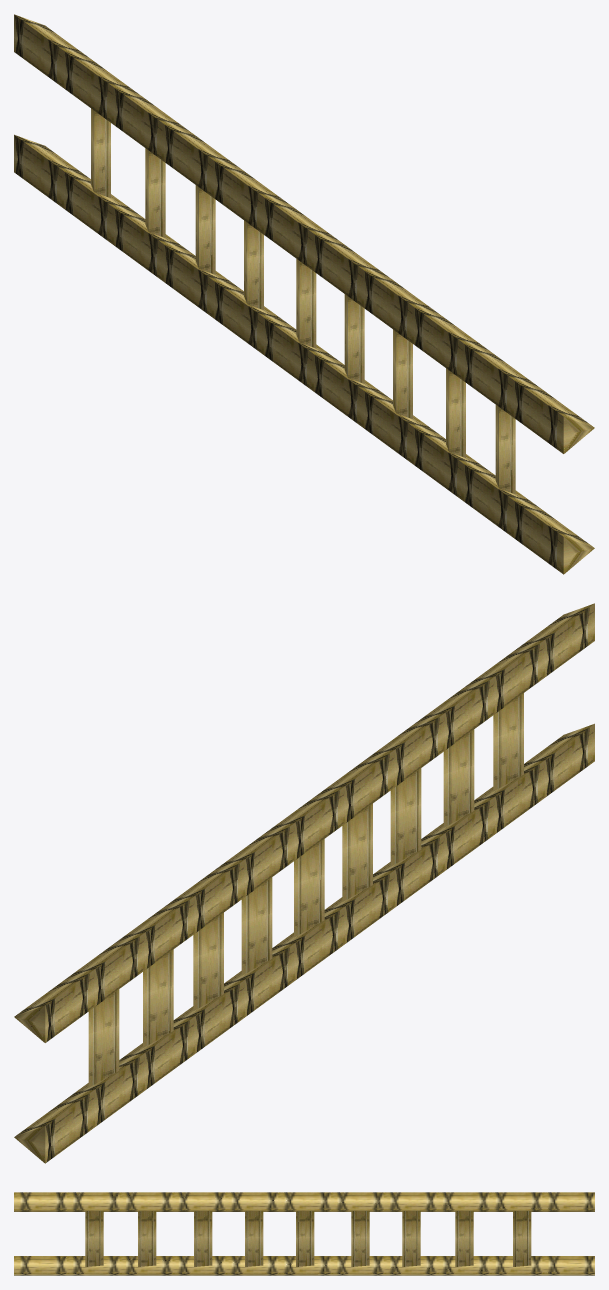
Rendered from ladder20.obj.
3 views of the same model, one above another, from view 1: azimuth 30°, elevation 25°; view 2: azimuth 150°, elevation 25°; view 3: azimuth 270°, elevation 25° (orthographic). The views are drawn at different scales.
Bounding box in the file's own units: 0.7207 × 3.49 × 22.
Materials: 2 (2 with a texture image).
